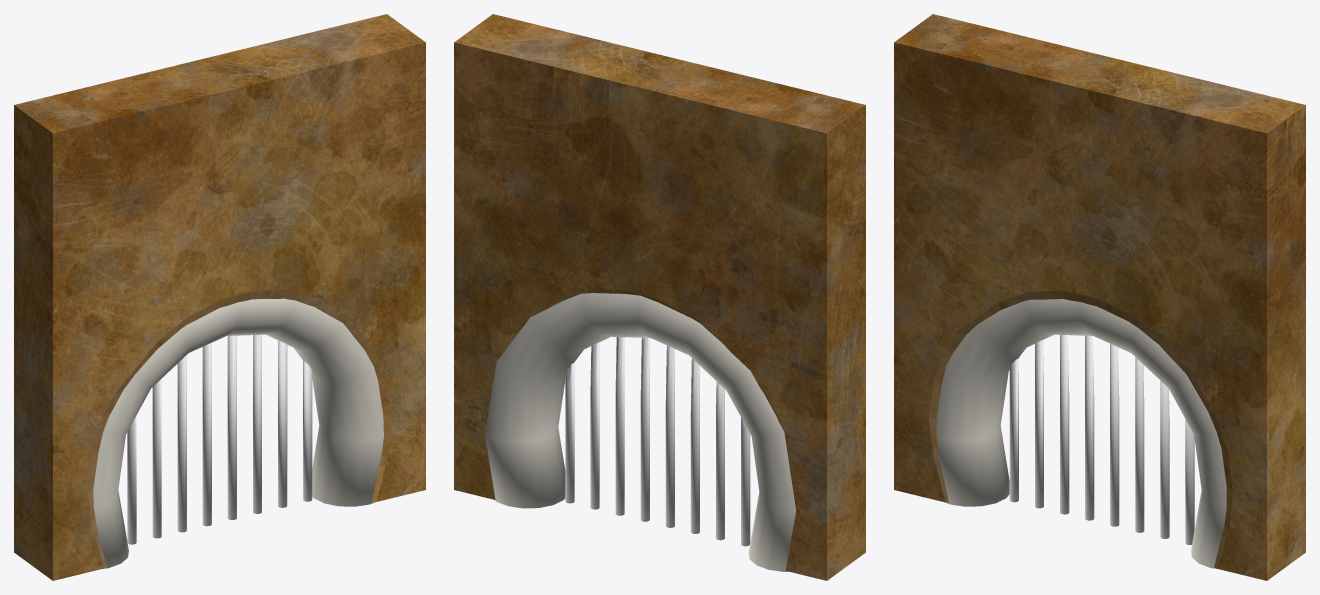
The model's file is WallWindow1.fbx.
3 renders of one model, left to right at view 1: azimuth 30°, elevation 25°; view 2: azimuth 150°, elevation 25°; view 3: azimuth 330°, elevation 25°, orthographic.
Visible parts, largest first — view 1: Grille; view 2: Grille; view 3: Grille.
Boxes of the visible parts, <box> form: Grille: <box>14,14,425,580</box>; Grille: <box>454,14,865,580</box>; Grille: <box>894,14,1305,580</box>.
Bounding box in the file's own units: 300 × 345 × 57.
